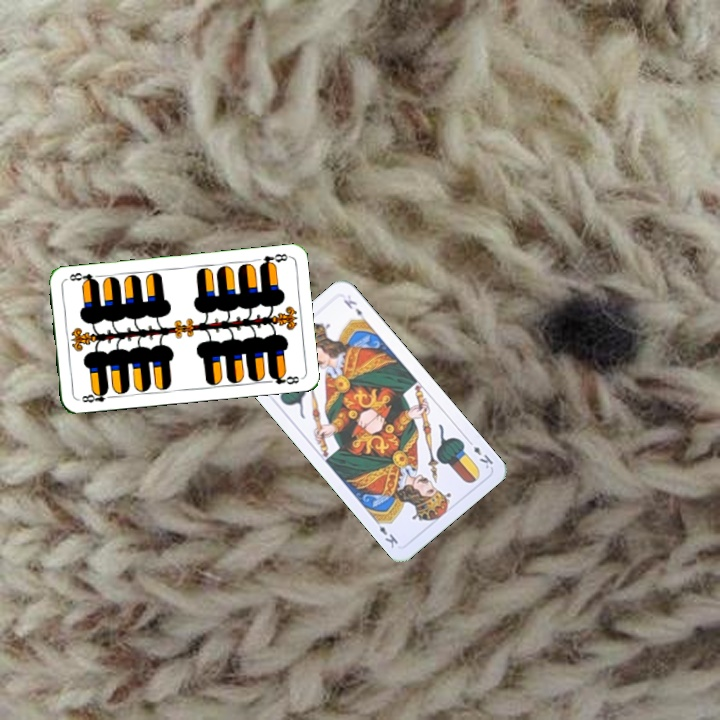E8: (255, 249, 291, 270), (78, 386, 115, 405)
EK: (463, 435, 496, 471)
